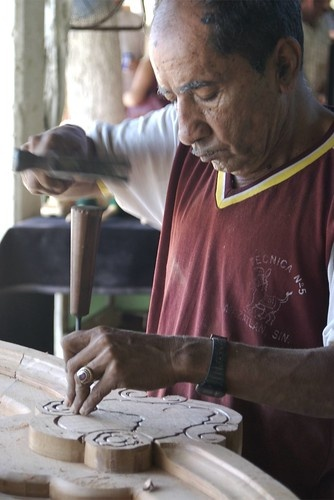hammer: (13, 113, 136, 186)
